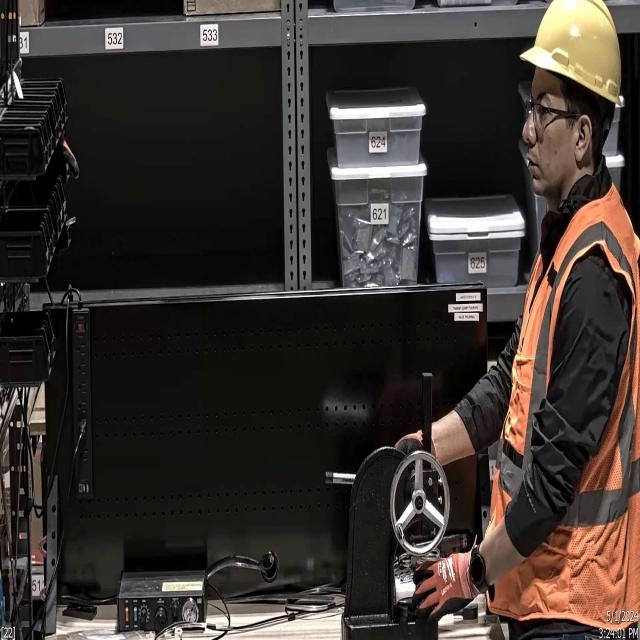gloves: (407, 549, 480, 628)
